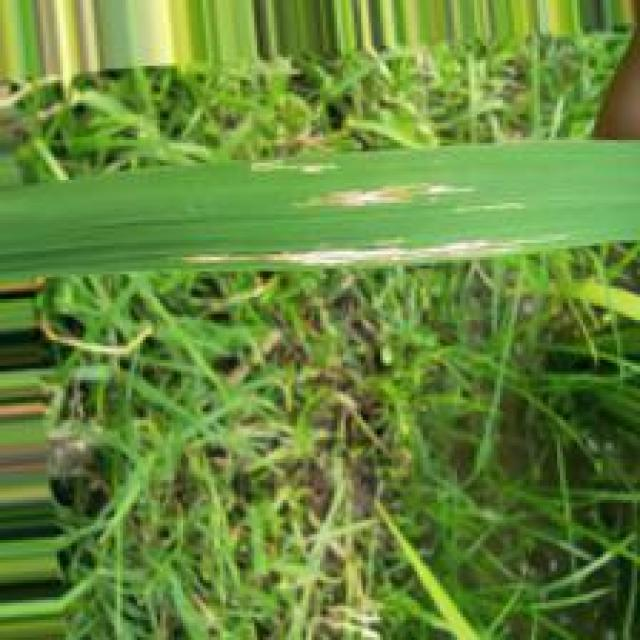Rice_Hispa: (182, 239, 520, 267), (309, 180, 459, 209)
